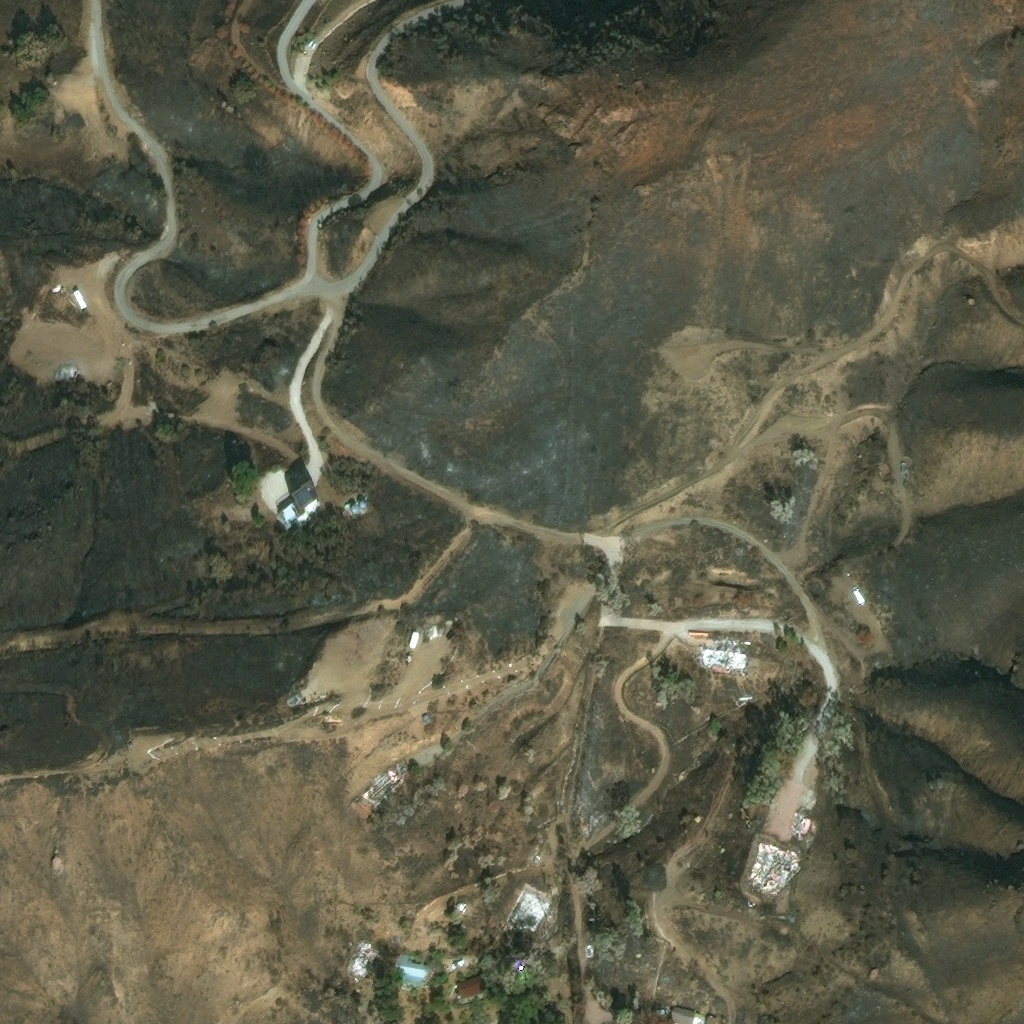0 no-damage: (279, 479, 323, 527), (392, 950, 428, 989), (454, 975, 488, 1002), (669, 1004, 695, 1023), (67, 289, 87, 313), (850, 588, 867, 607), (406, 634, 418, 652), (425, 628, 437, 643), (692, 1011, 705, 1023), (50, 284, 64, 295), (925, 779, 937, 790), (934, 776, 945, 787), (453, 905, 464, 915), (357, 499, 367, 509), (707, 1014, 716, 1023), (350, 504, 359, 513), (419, 717, 427, 726), (693, 815, 701, 823)
3 destroyed: (746, 838, 797, 888), (360, 759, 412, 806), (507, 886, 549, 931), (701, 639, 746, 671), (348, 942, 378, 971), (789, 807, 811, 838), (286, 689, 301, 705), (777, 810, 787, 827), (584, 943, 593, 957), (786, 906, 795, 917)
